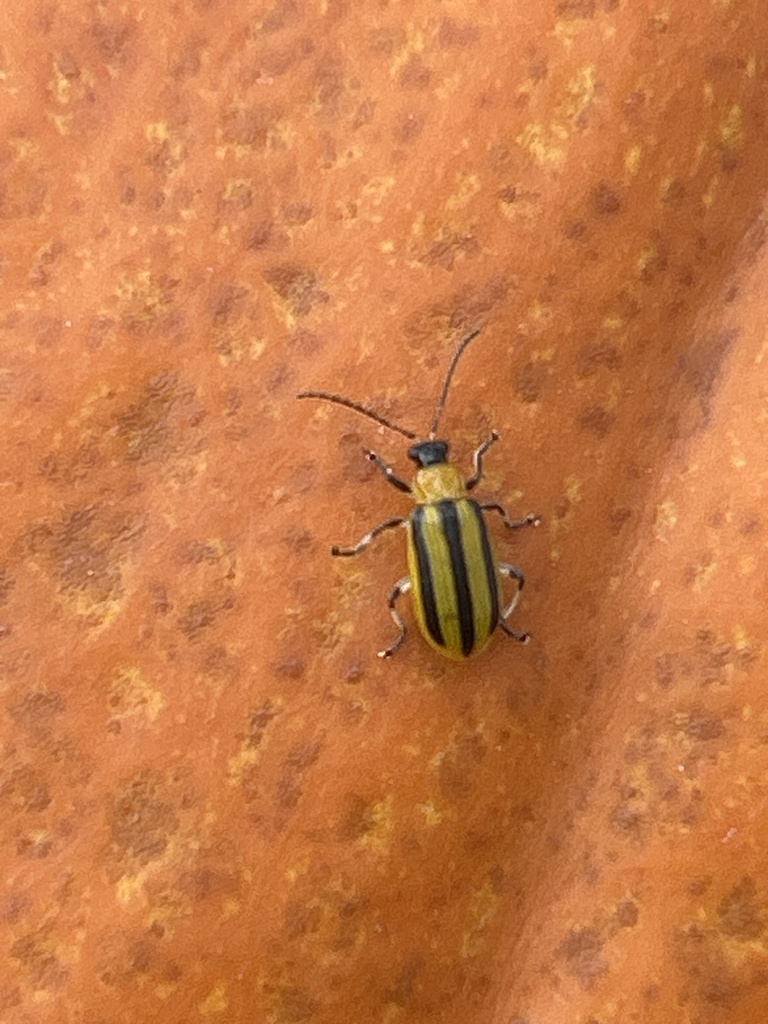potato_beetle: (217, 254, 648, 775)
